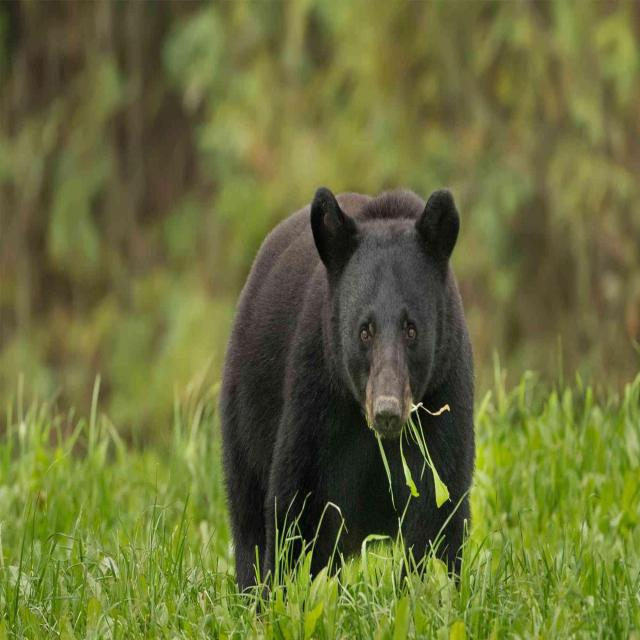Bear: (218, 187, 476, 594)
